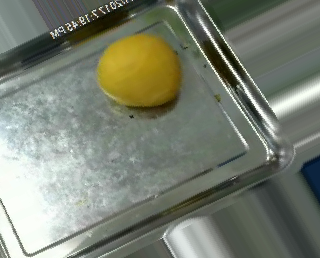Mango: (95, 36, 182, 106)
